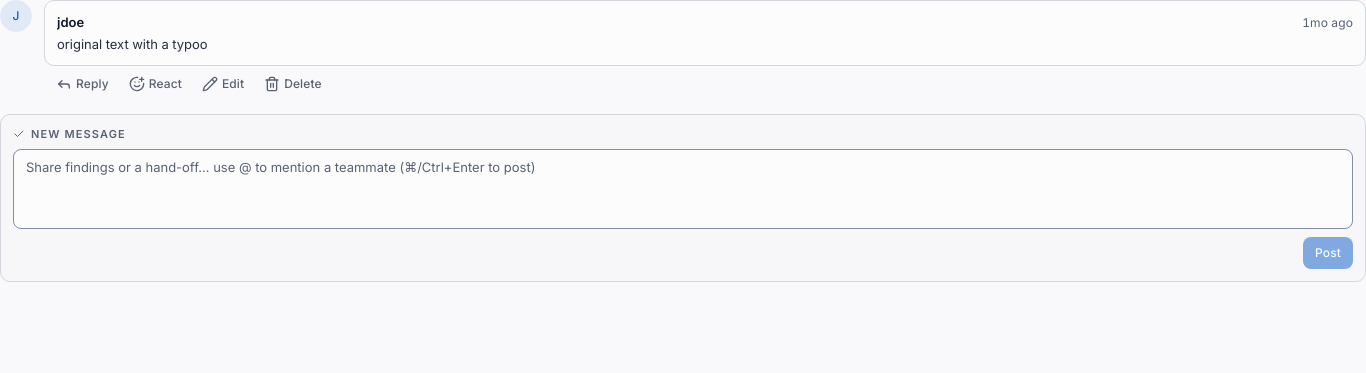
CaseThread (#4 collaboration / #9 escaping) › seeds the edit composer with the existing message body (no full retype, #5)
The image size is (1366, 373).
Click the button "Edit" at (223, 84), box [194,70,252,98]
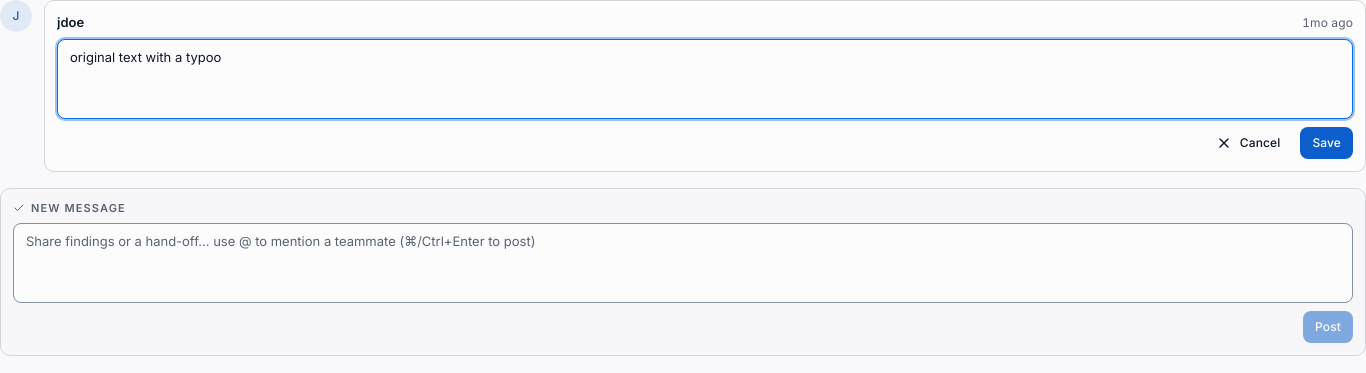
expect the text box with placeholder "Edit your message…" holds "original text with a typoo": met, box [57,39,1353,119]
